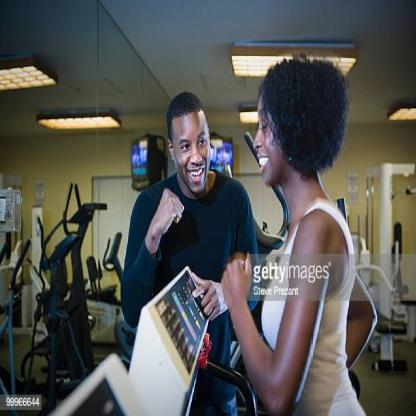Thumbs-Up: (185, 266, 227, 328)
fist: (137, 184, 194, 246), (217, 240, 257, 316)
